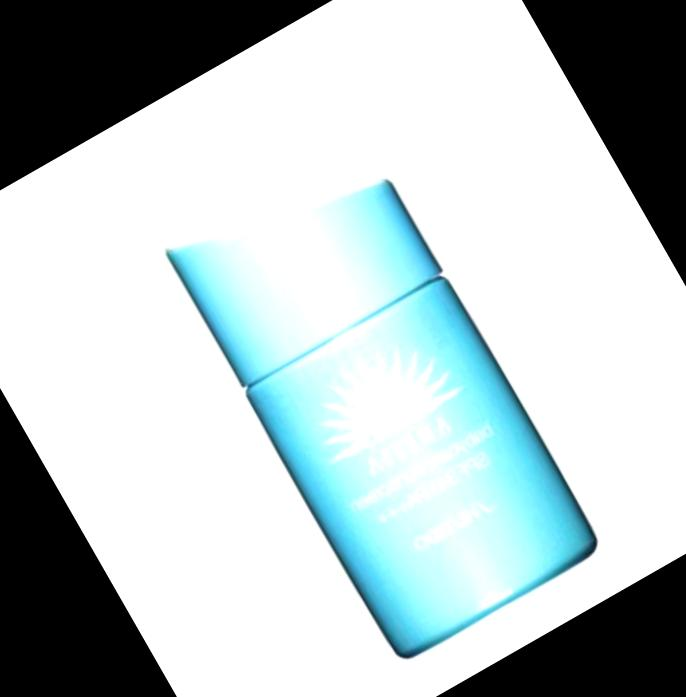cosmetic: (156, 130, 604, 668)
